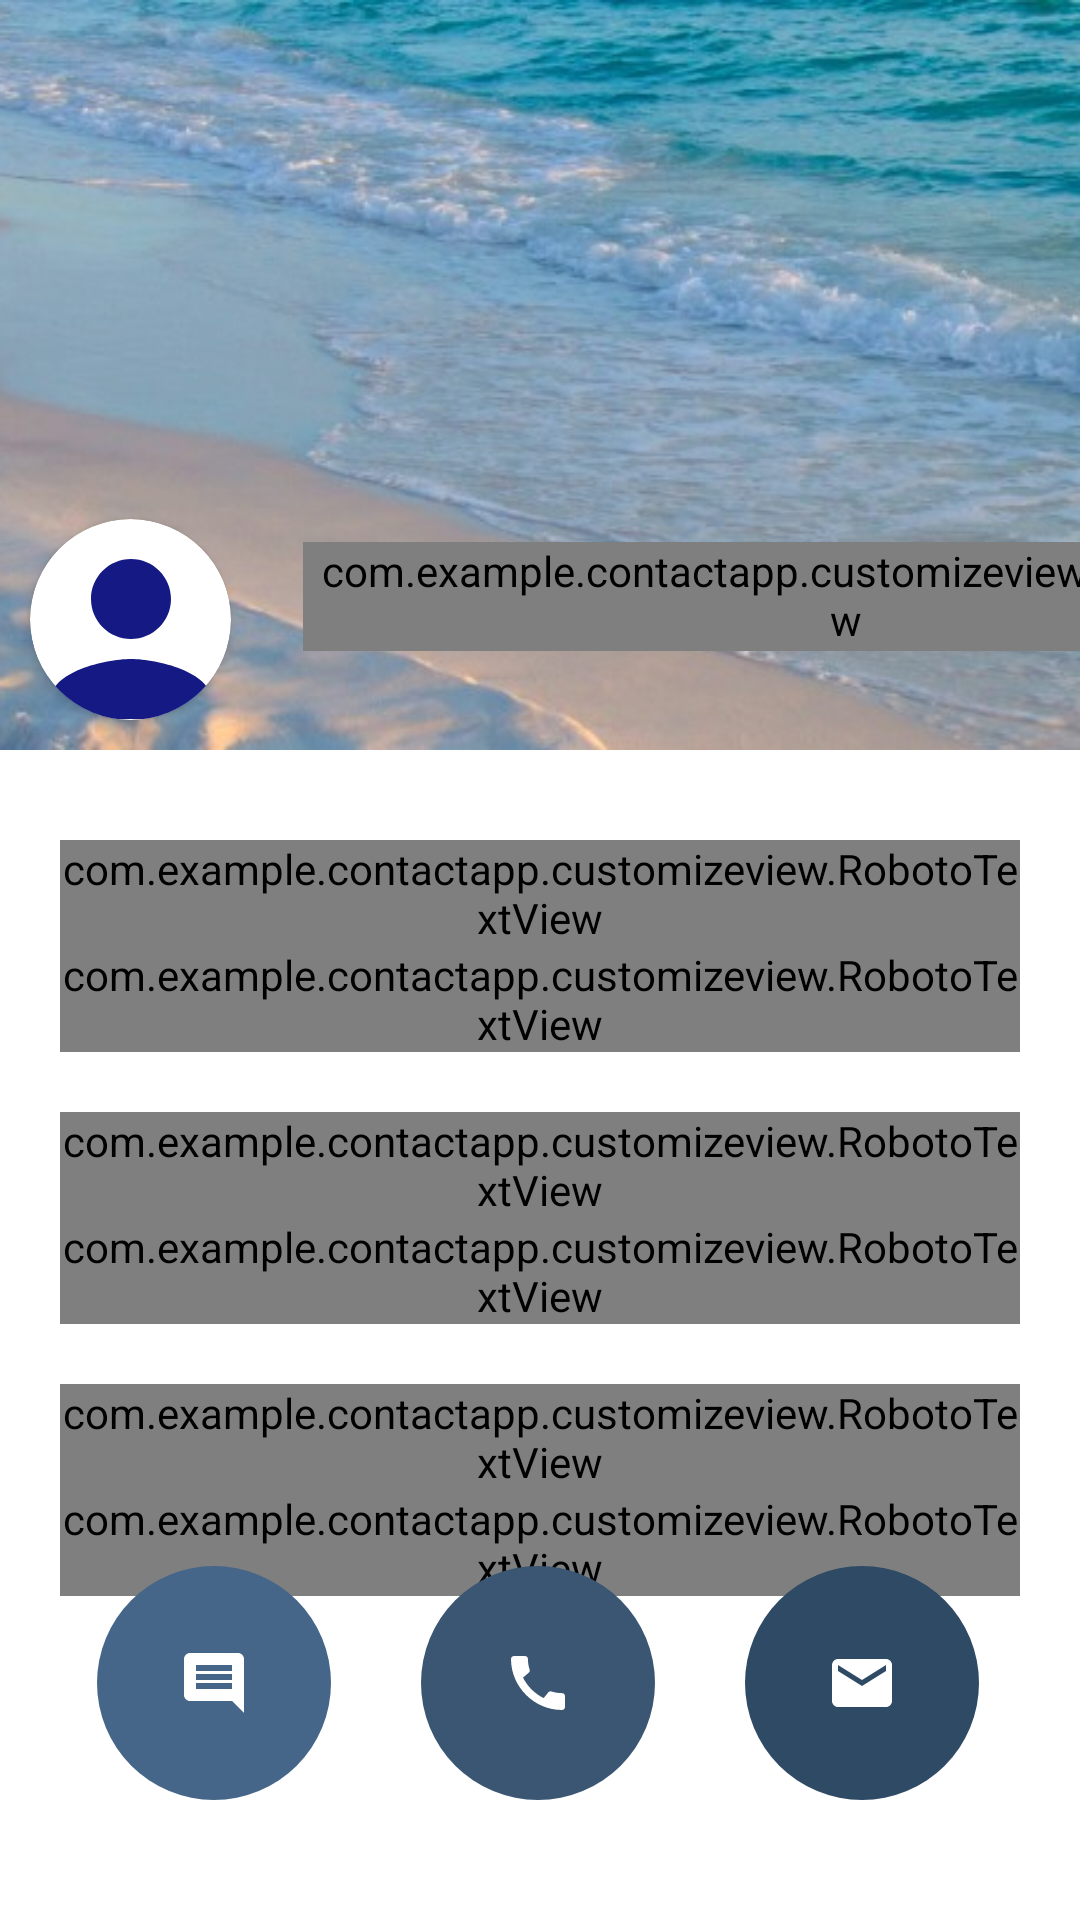

Named icons in this screenshot (1080×1920) and their bounding boxes, box=[x1, y1, x2, y2]:
call: box=[421, 1566, 655, 1800]
comment: box=[97, 1566, 331, 1800]
email: box=[745, 1566, 979, 1800]
